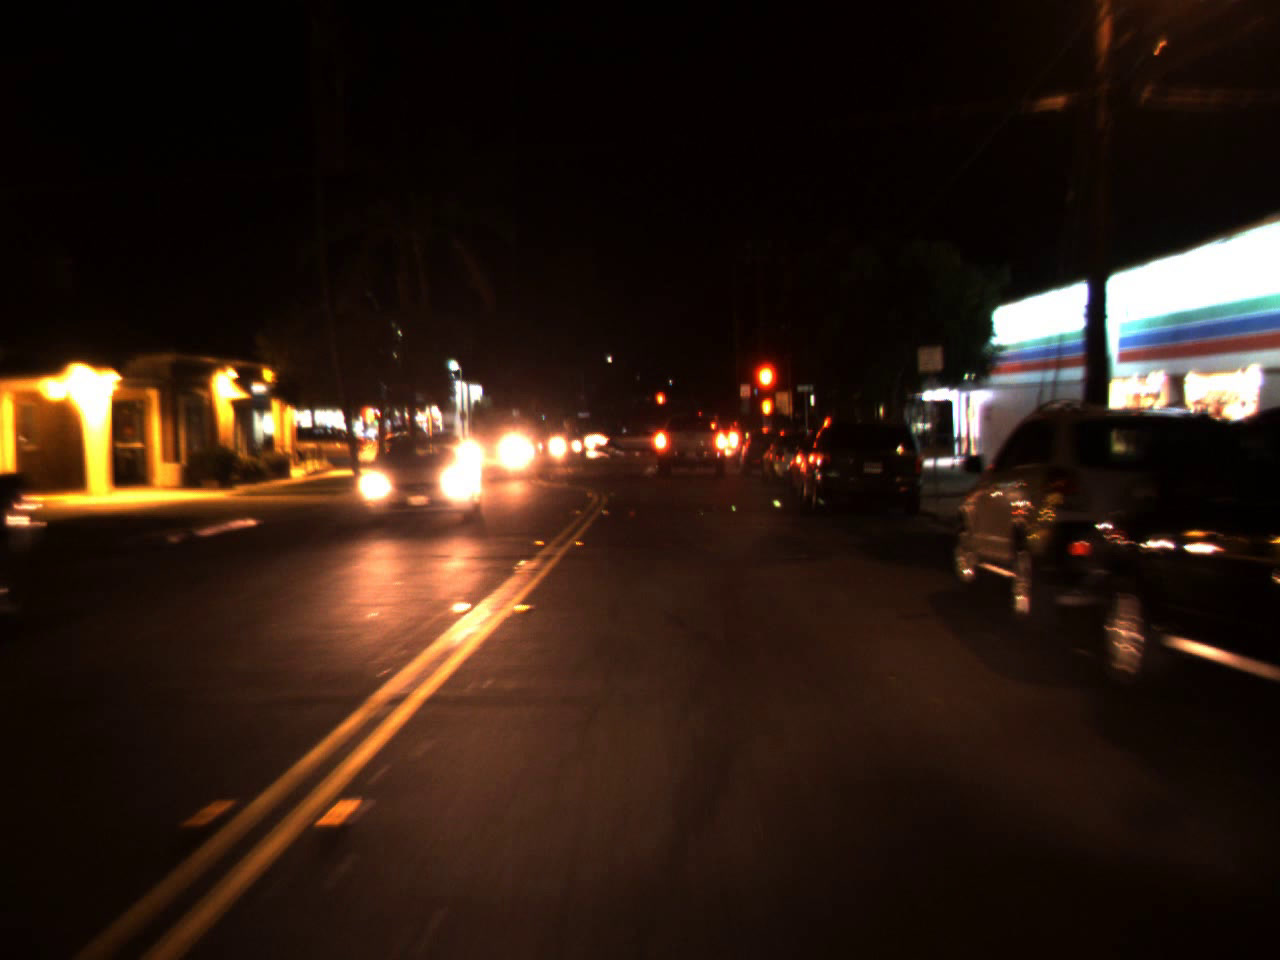stop: (751, 357, 781, 427), (655, 390, 667, 419)
